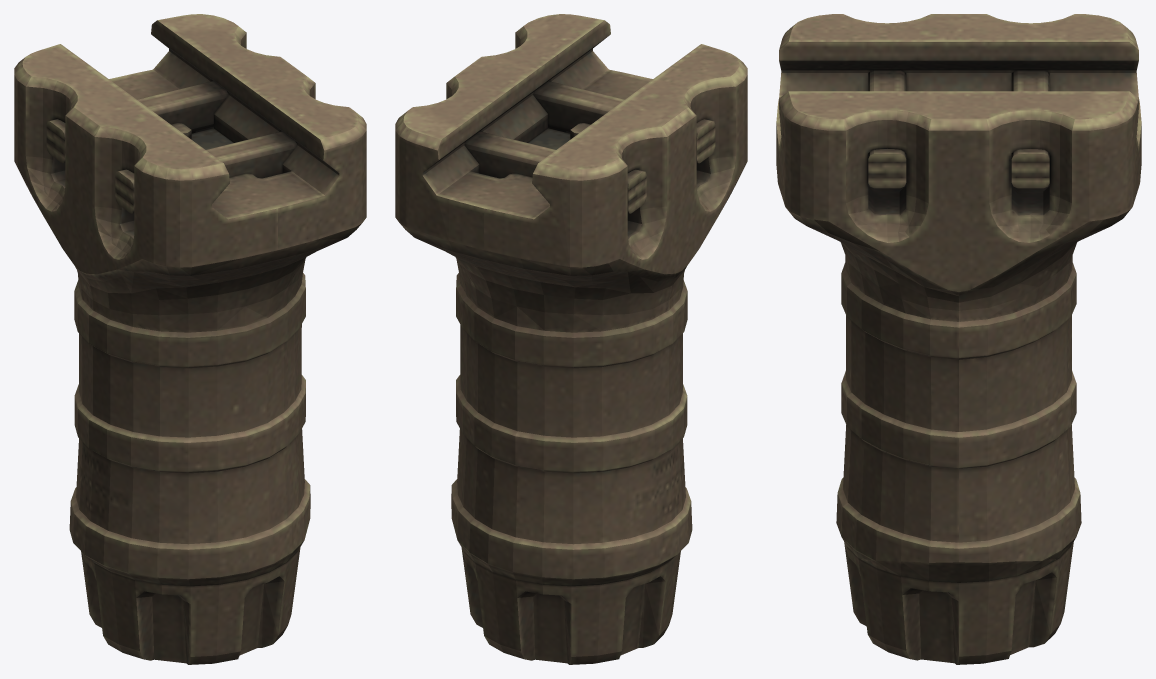
The picture shows the model from 3 angles, left to right: view 1: azimuth 30°, elevation 25°; view 2: azimuth 150°, elevation 25°; view 3: azimuth 270°, elevation 25°; orthographic projection. The views are drawn at different scales.
Visible parts, largest first — view 1: TW_58c157be86f77403c74b2bb6_PZ_Import; view 2: TW_58c157be86f77403c74b2bb6_PZ_Import; view 3: TW_58c157be86f77403c74b2bb6_PZ_Import.
Boxes of the visible parts, x1=… form: TW_58c157be86f77403c74b2bb6_PZ_Import: x1=14, y1=14, x2=366, y2=664; TW_58c157be86f77403c74b2bb6_PZ_Import: x1=395, y1=14, x2=747, y2=664; TW_58c157be86f77403c74b2bb6_PZ_Import: x1=776, y1=14, x2=1141, y2=664.
Bounding box in the file's own units: 0.0216 × 0.0297 × 0.0504.
Materials: 1 (1 with a texture image).
